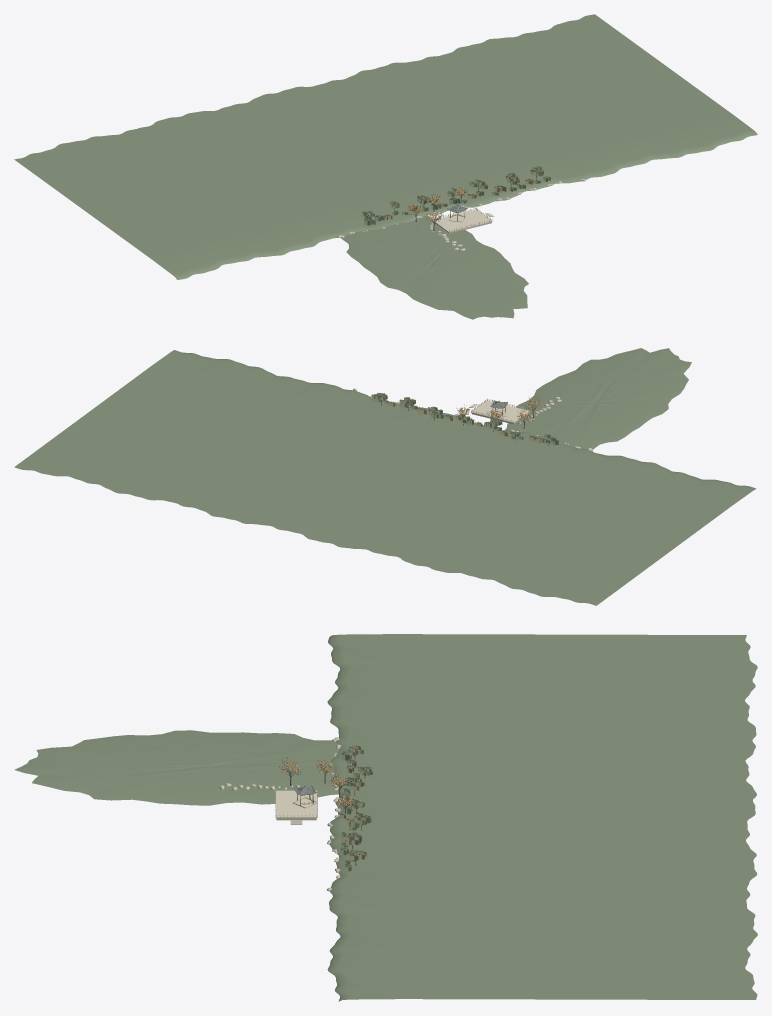
Rendered from autumn-moon.glb.
3 renders of one model, top to bottom at view 1: azimuth 30°, elevation 25°; view 2: azimuth 150°, elevation 25°; view 3: azimuth 270°, elevation 25°, orthographic. The views are drawn at different scales.
Visible parts, largest first — view 1: earth, stoneedge, crown0, crown2, crown1; view 2: earth, stoneedge, crown2, crown0, crown1; view 3: earth, stoneedge, crown0, crown1, crown2.
Part boxes in pixels (bbox=[...]): earth: bbox=[14, 14, 757, 319]; stoneedge: bbox=[433, 208, 494, 232]; crown0: bbox=[363, 166, 543, 225]; crown2: bbox=[362, 166, 543, 219]; crown1: bbox=[361, 166, 550, 221]; earth: bbox=[14, 348, 756, 605]; stoneedge: bbox=[469, 398, 529, 422]; crown2: bbox=[372, 393, 555, 442]; crown0: bbox=[372, 393, 558, 445]; crown1: bbox=[371, 393, 555, 443]; earth: bbox=[14, 634, 757, 1001]; stoneedge: bbox=[275, 788, 317, 824]; crown0: bbox=[341, 746, 372, 864]; crown1: bbox=[340, 745, 372, 871]; crown2: bbox=[343, 745, 371, 861].
Size of the model in its own units: 300 by 10.66 by 258.
